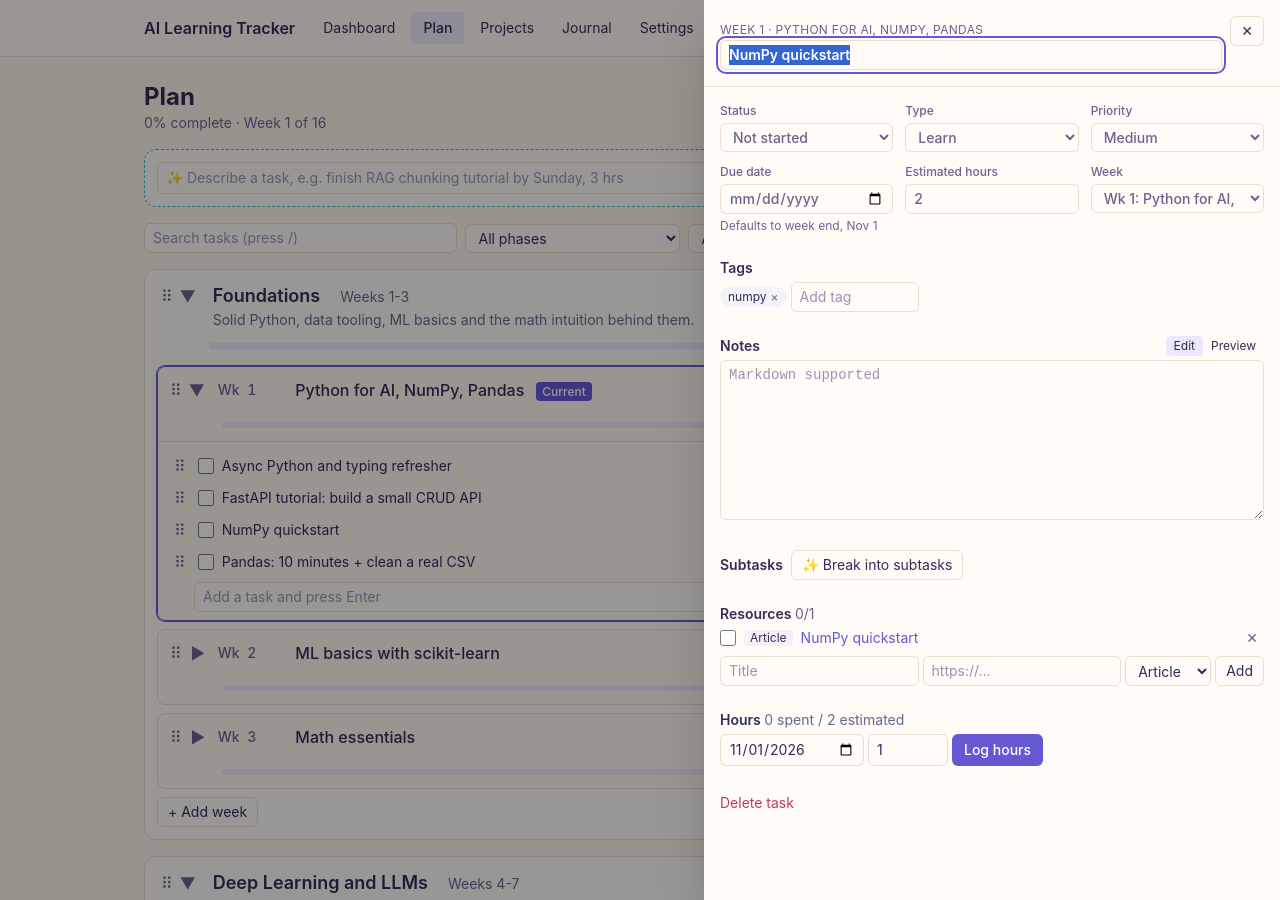
Subtasks › adds kept subtasks right after the parent task
Expected: the heading "Plan" is shown, [144,82,195,111]
Click the button "✨ Break into subtasks" at (877, 565), box [791,550,963,580]
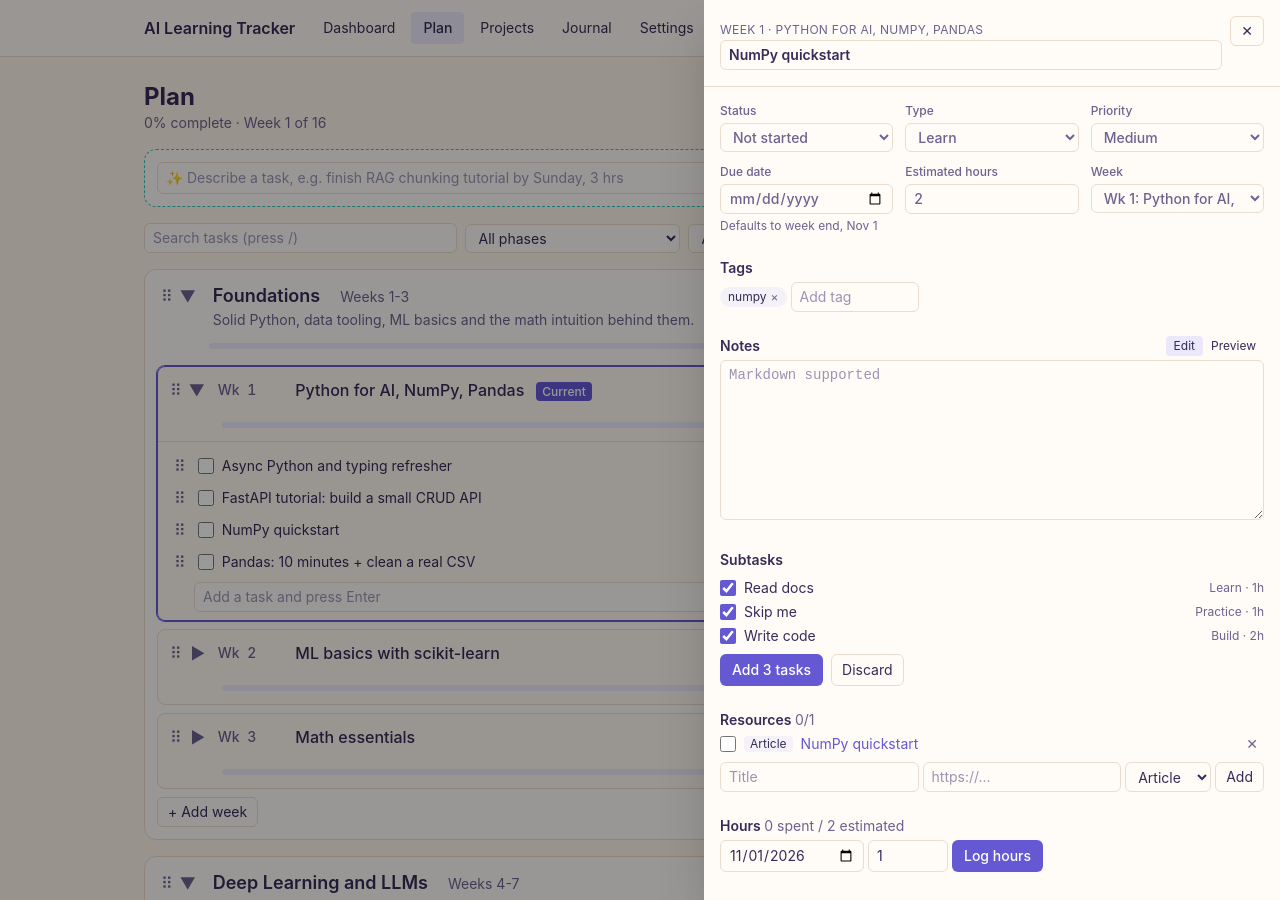
Click the checkbox named "Keep subtask \"Skip me\"" at (728, 612), box [720,604,736,620]
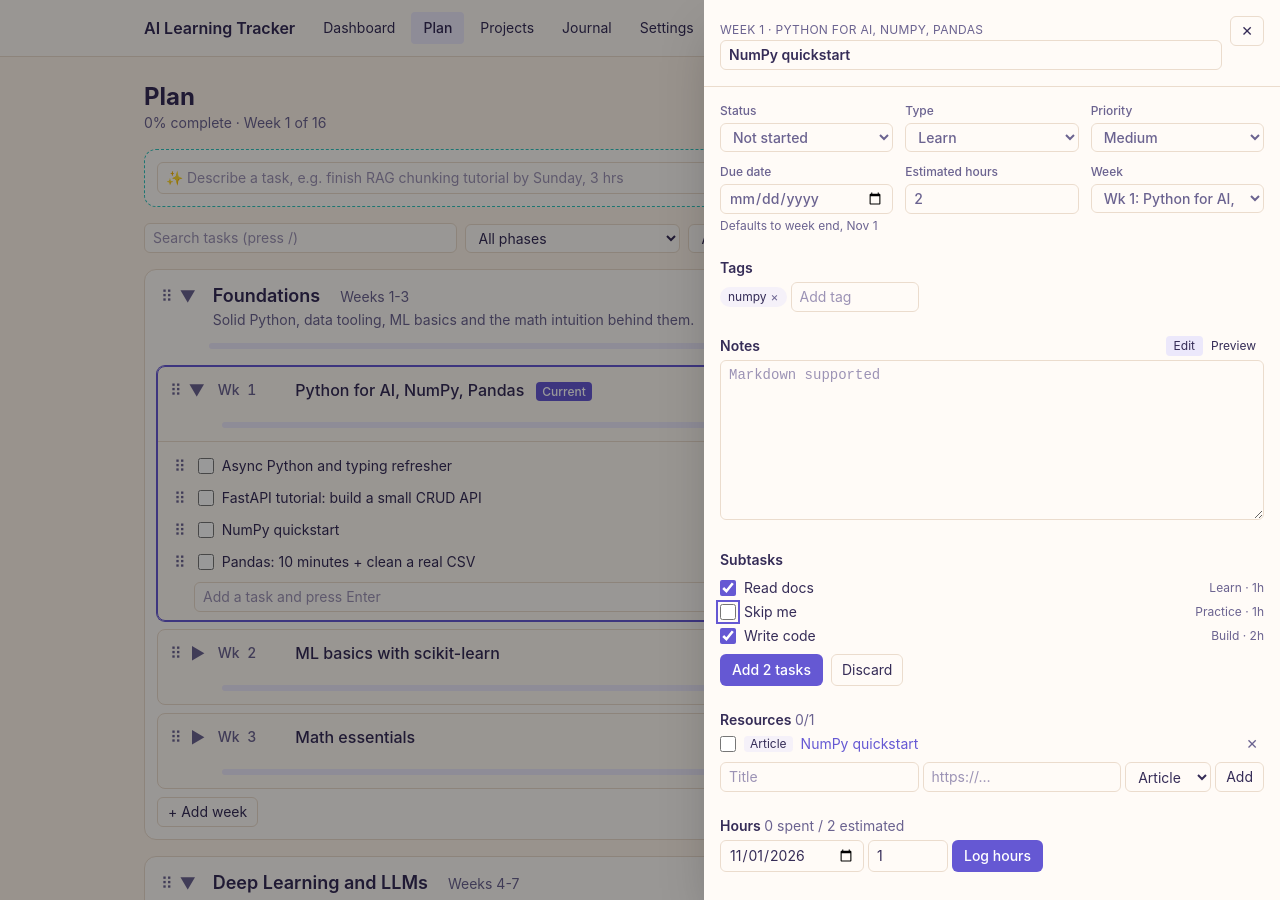
Click the button "Add 2 tasks" at (771, 670), box [720,654,823,686]
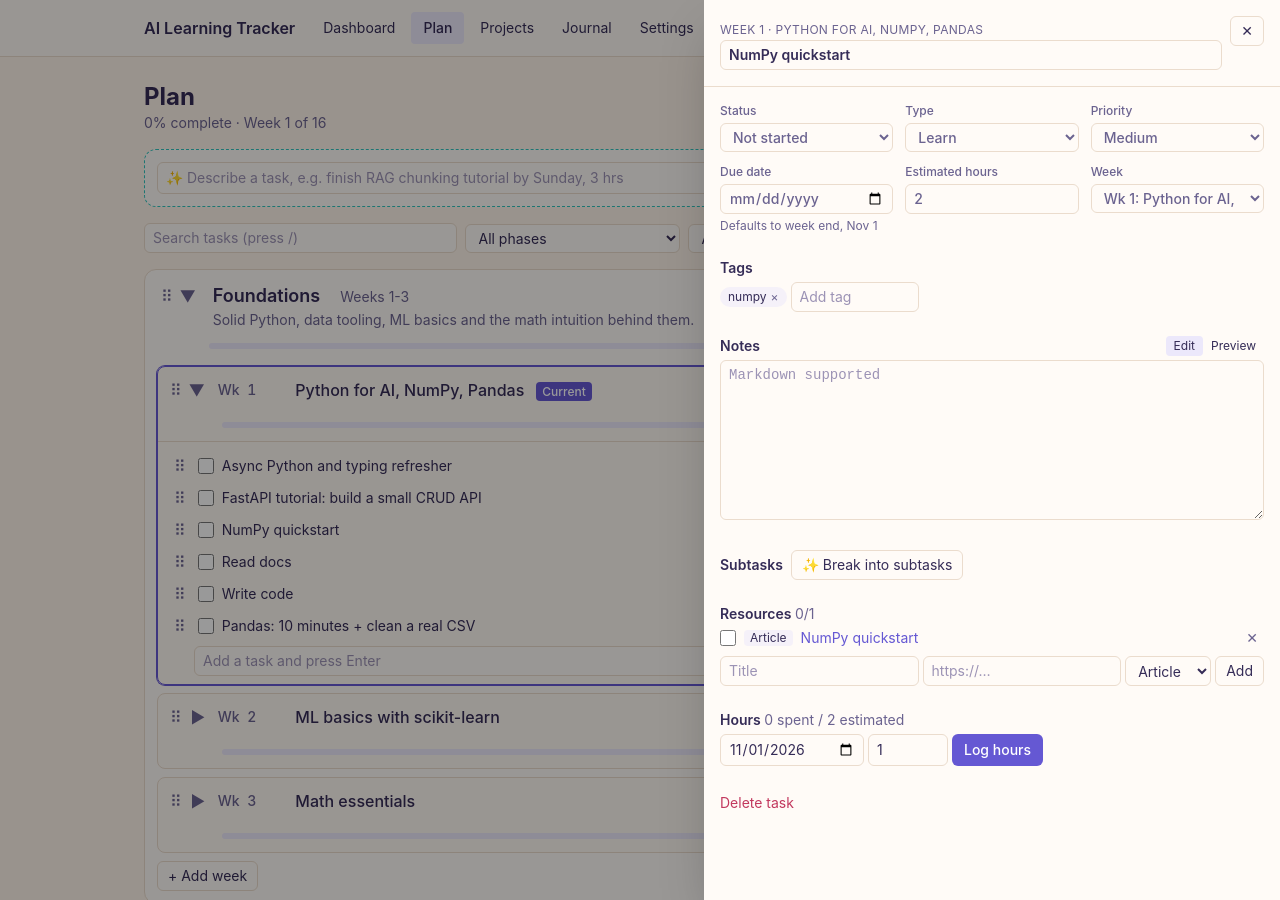
Expected: the text "Skip me" is gone
